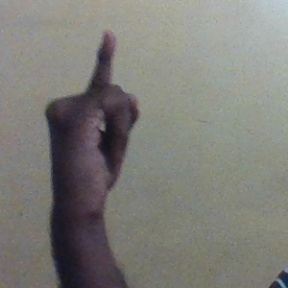I: (43, 28, 144, 219)
